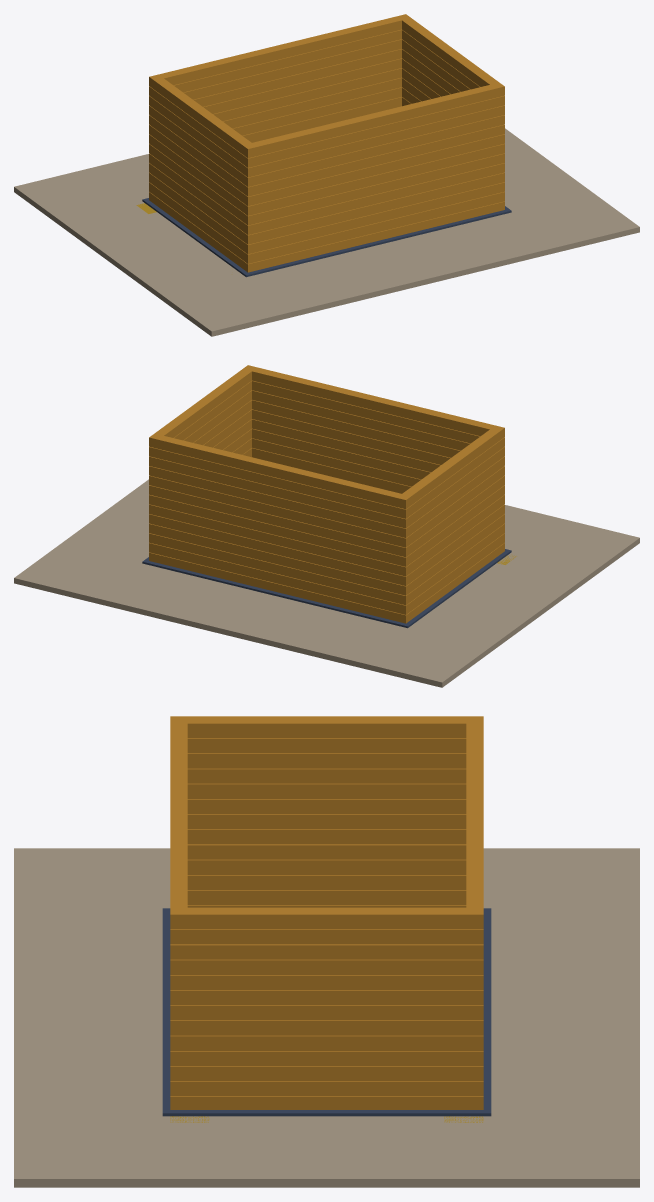
Rendered from stage_04_walls.glb.
The picture shows the model from 3 angles, top to bottom: view 1: azimuth 30°, elevation 25°; view 2: azimuth 150°, elevation 25°; view 3: azimuth 270°, elevation 25°; orthographic projection. The views are drawn at different scales.
Visible parts, largest first — view 1: world; view 2: world; view 3: world.
Boxes of the visible parts, <box> form: world: <box>14,14,639,336</box>; world: <box>14,365,639,687</box>; world: <box>14,716,639,1187</box>.
Bounding box in the file's own units: 10 × 3.6 × 8.
